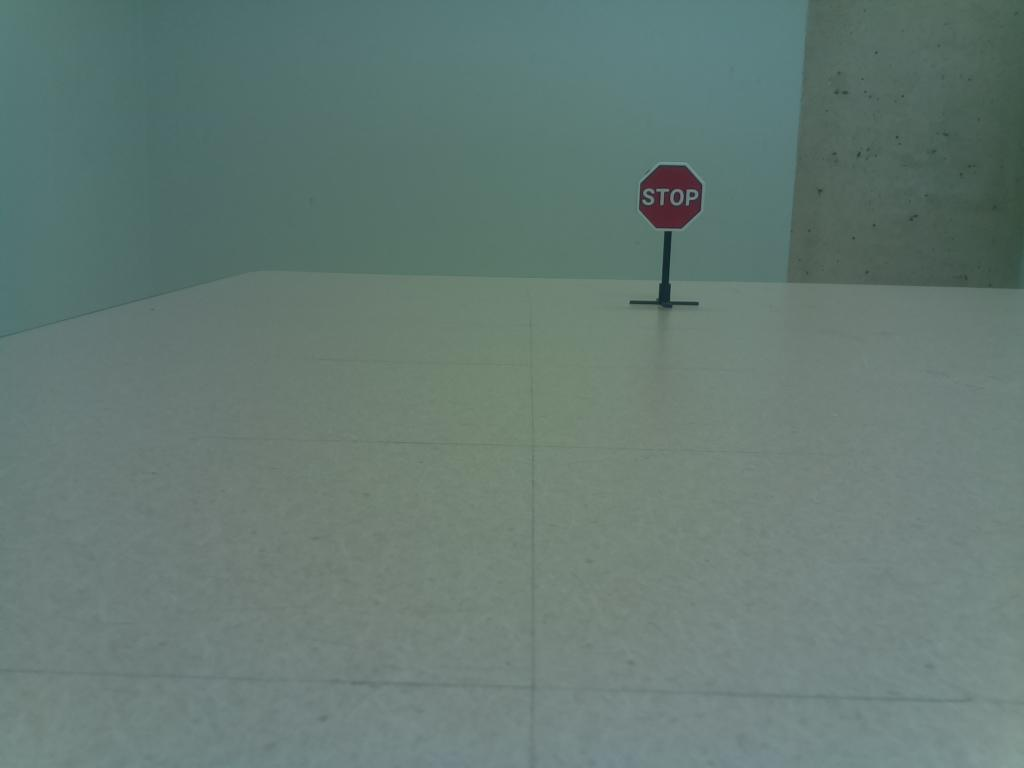sign_stop: (633, 159, 710, 236)
